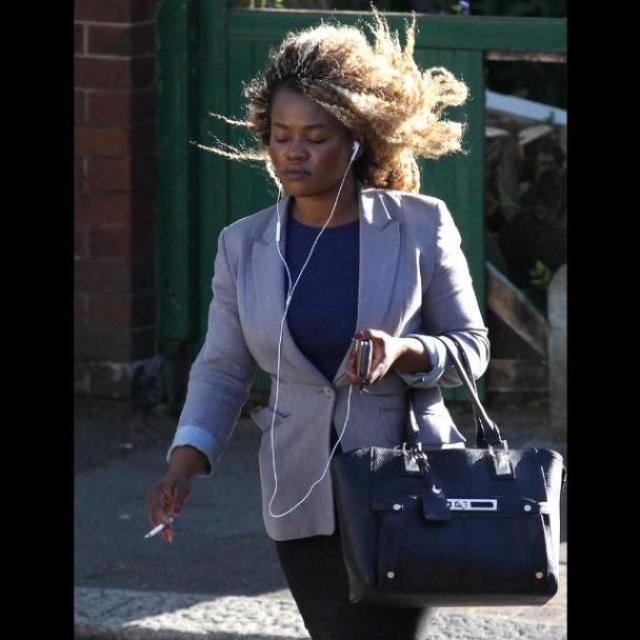rokok: (134, 498, 188, 546)
